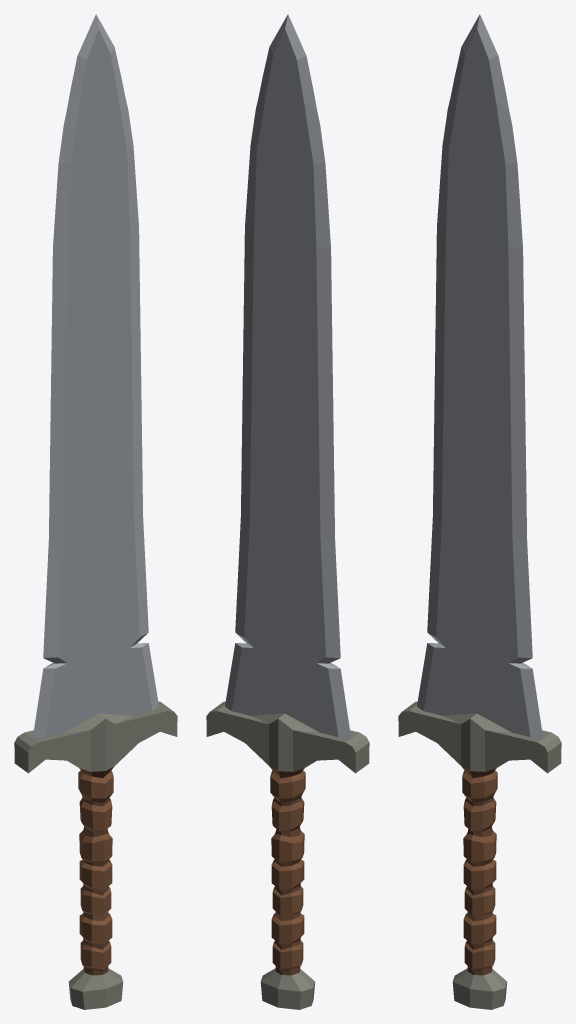
The model's file is Sword_Big.glb.
3 views of the same model, side by side, from view 1: azimuth 30°, elevation 25°; view 2: azimuth 150°, elevation 25°; view 3: azimuth 330°, elevation 25° (orthographic).
Parts seen in each view (by area): view 1: Sword_big; view 2: Sword_big; view 3: Sword_big.
Part boxes in pixels (<box>): Sword_big: <box>14,14,177,1009</box>; Sword_big: <box>206,14,369,1009</box>; Sword_big: <box>398,14,561,1009</box>.
Bounding box in the file's own units: 1.02 × 6.44 × 0.2386.
